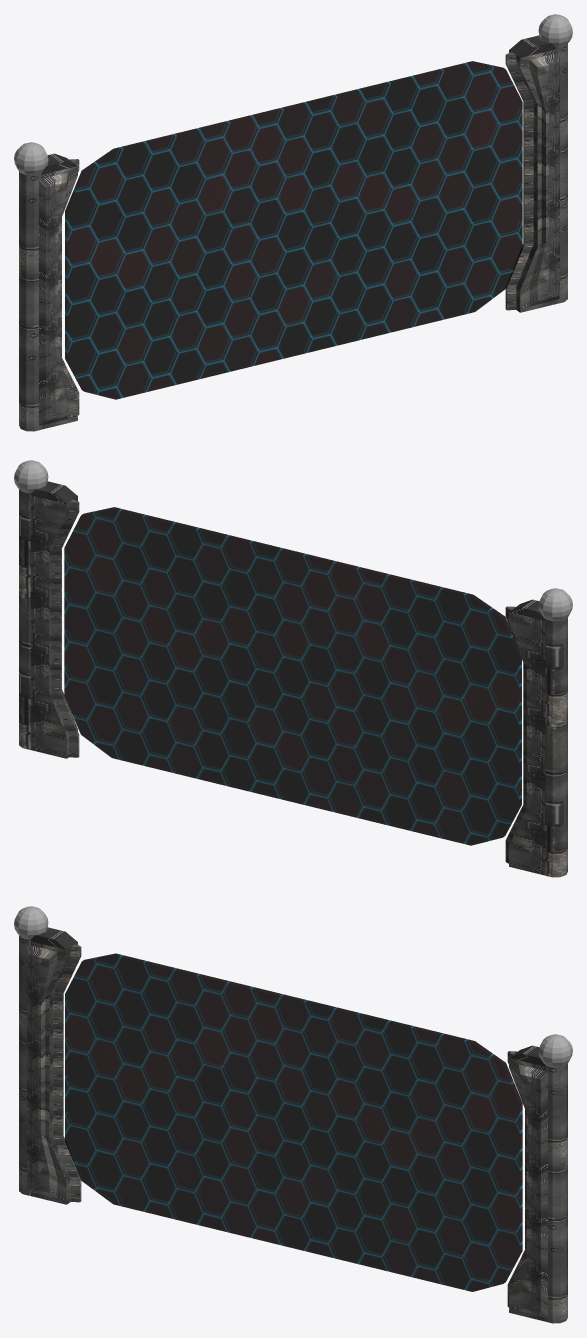
The model's file is ForceGate.fbx.
The picture shows the model from 3 angles, top to bottom: view 1: azimuth 30°, elevation 25°; view 2: azimuth 150°, elevation 25°; view 3: azimuth 330°, elevation 25°; orthographic projection.
Parts seen in each view (by area): view 1: pCube2, polySurface2, polySurface1, polySurface3, polySurface4, polySurface5, polySurface6; view 2: pCube2, polySurface2, polySurface1, polySurface3, polySurface4, polySurface5, polySurface6; view 3: pCube2, polySurface1, polySurface2, polySurface4, polySurface3, polySurface6, polySurface5.
Boxes of the visible parts, left/top/right/bottom form: pCube2: left=65, top=61, right=522, bottom=399; polySurface2: left=505, top=35, right=559, bottom=312; polySurface1: left=39, top=153, right=79, bottom=429; polySurface3: left=19, top=172, right=41, bottom=431; polySurface4: left=556, top=43, right=567, bottom=303; polySurface5: left=14, top=142, right=48, bottom=175; polySurface6: left=538, top=14, right=572, bottom=46; pCube2: left=64, top=507, right=521, bottom=845; polySurface2: left=30, top=481, right=79, bottom=758; polySurface1: left=505, top=599, right=545, bottom=875; polySurface3: left=545, top=618, right=567, bottom=877; polySurface4: left=19, top=489, right=30, bottom=749; polySurface5: left=538, top=588, right=572, bottom=621; polySurface6: left=14, top=460, right=48, bottom=492; pCube2: left=65, top=953, right=522, bottom=1291; polySurface1: left=27, top=927, right=81, bottom=1204; polySurface2: left=507, top=1045, right=547, bottom=1321; polySurface4: left=545, top=1064, right=567, bottom=1323; polySurface3: left=19, top=935, right=30, bottom=1195; polySurface6: left=538, top=1034, right=572, bottom=1067; polySurface5: left=14, top=906, right=48, bottom=938.
Bounding box in the file's own units: 10.22 × 4.98 × 0.5413.
